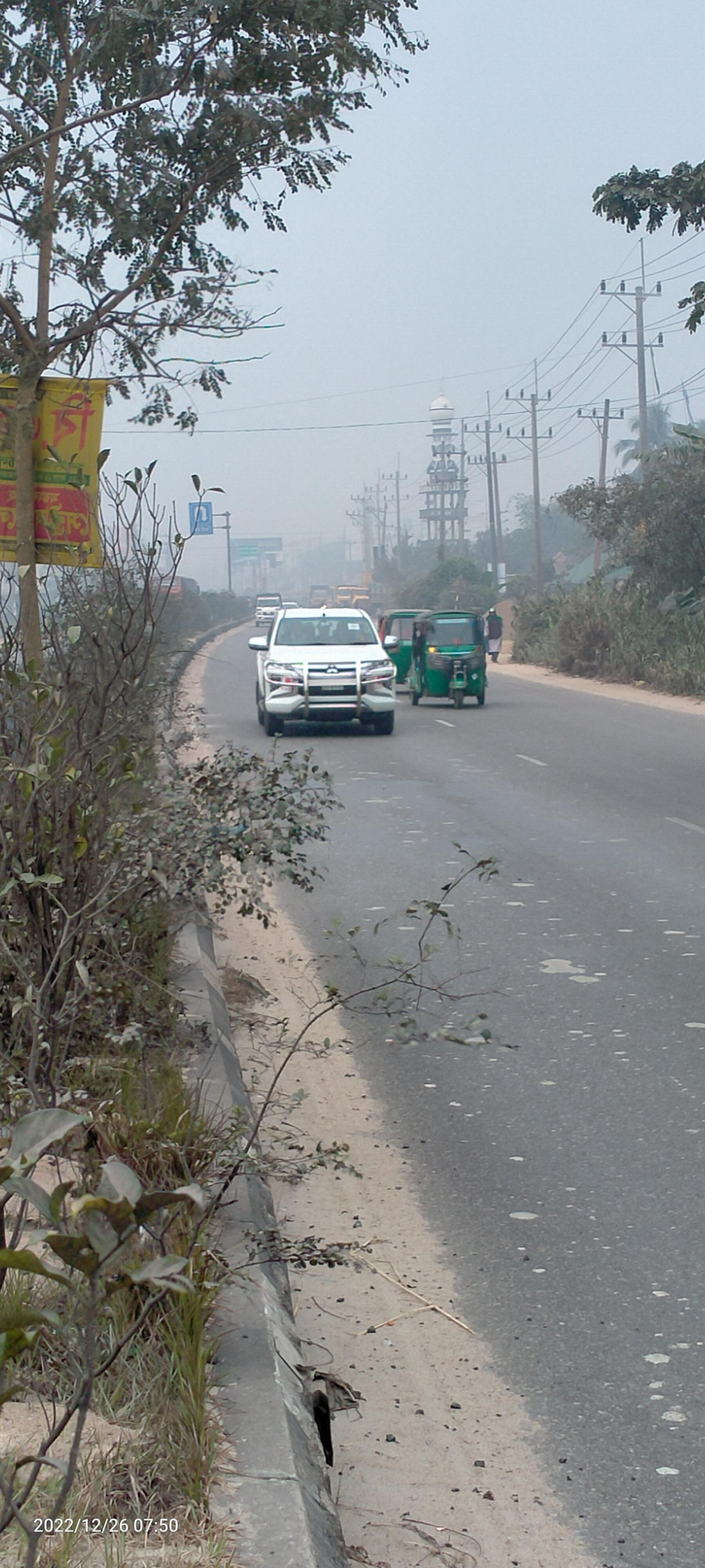Car: (249, 594, 408, 738)
